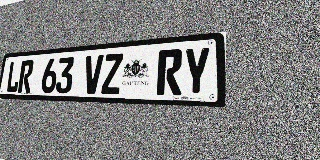3: (55, 57, 74, 93)
6: (41, 58, 59, 93)
L: (6, 61, 21, 93)
R: (156, 49, 183, 95), (18, 60, 34, 93)
V: (83, 55, 104, 94)
Y: (182, 47, 211, 96)
Z: (101, 53, 123, 94)
